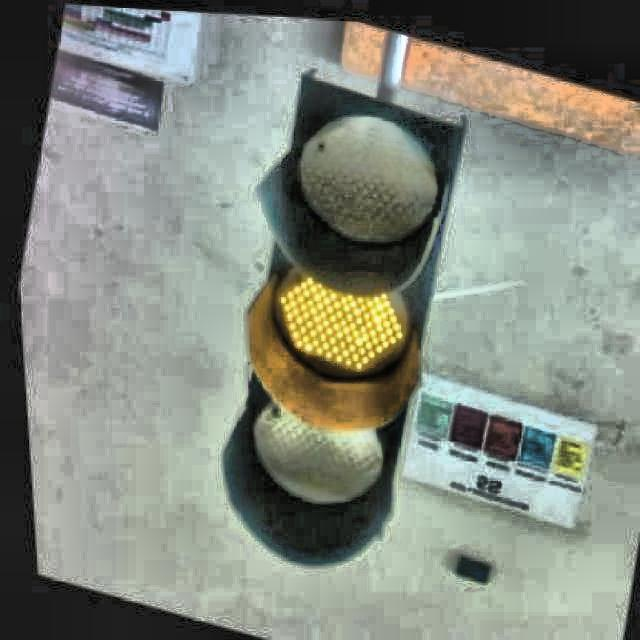yellow: (236, 80, 461, 573)
